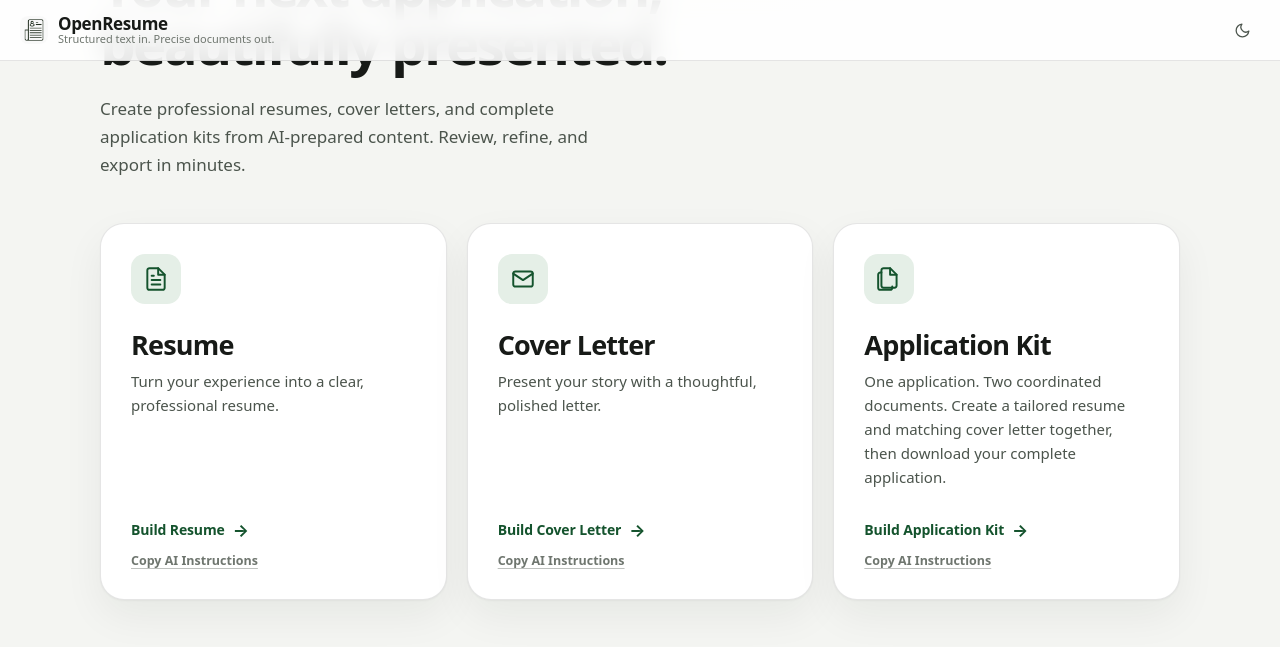
Test: cover letter workflow › builds and edits a cover letter
(page scrolled)
Click the button "Build Cover Letter →" at (572, 530), box top-left (498, 519), bottom-right (645, 540)
(page scrolled)
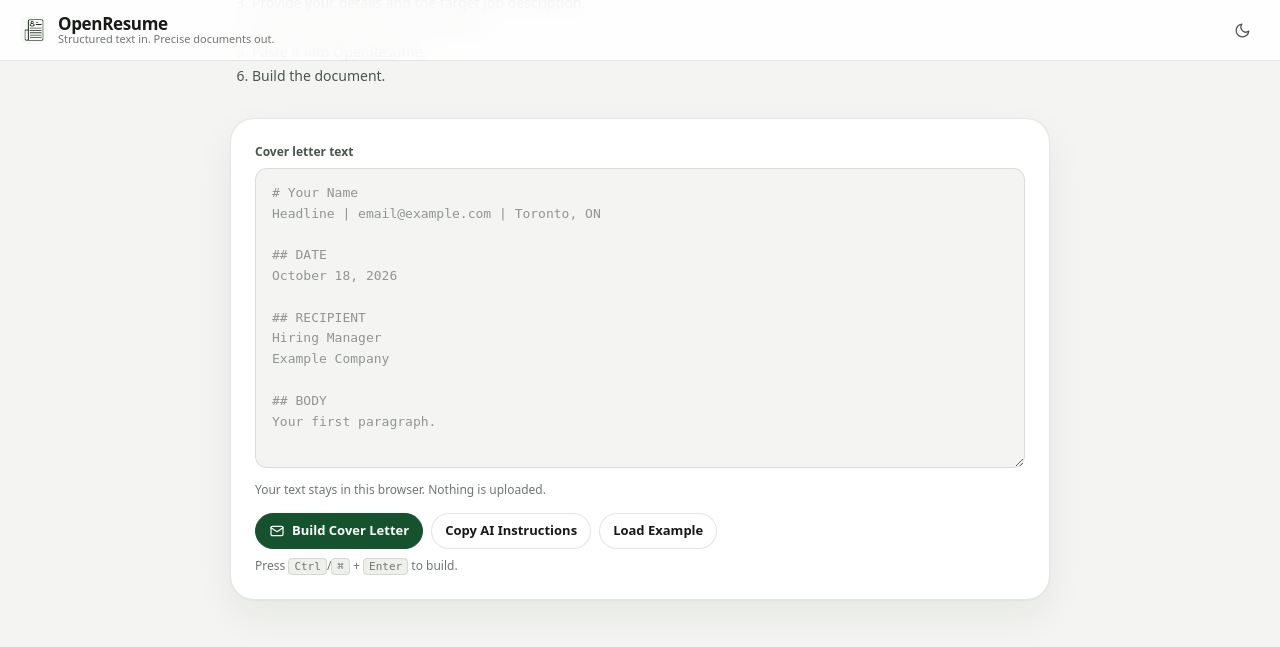
Replace the text in the text box labelled "Cover letter text" with "# Jordan Avery Product-minded software generalist | jordan.avery@example.com | +1 555 0142 | Toronto, ON | linkedin.com/in/jordanavery ## DATE October 18, 2026 ## RECIPIENT Morgan Lee Hiring Manager B" at (640, 318), box top-left (255, 168), bottom-right (1025, 468)
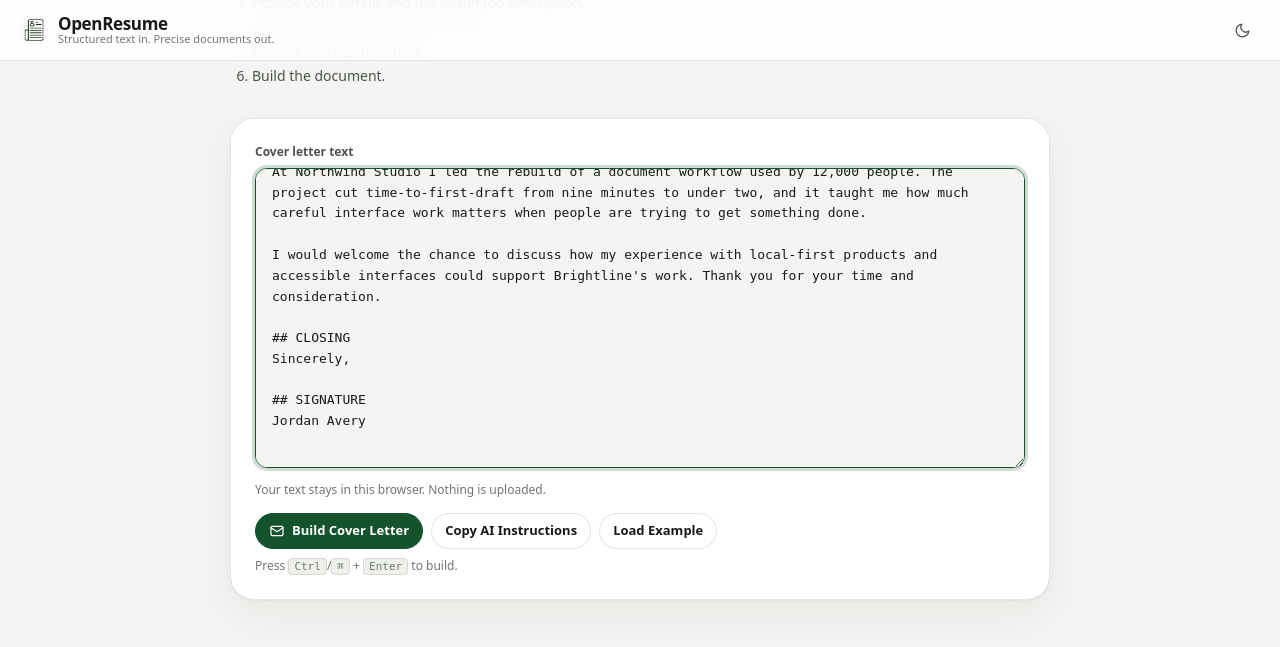
Click the button "Build Cover Letter" at (339, 531), box top-left (255, 513), bottom-right (423, 549)
(page scrolled)
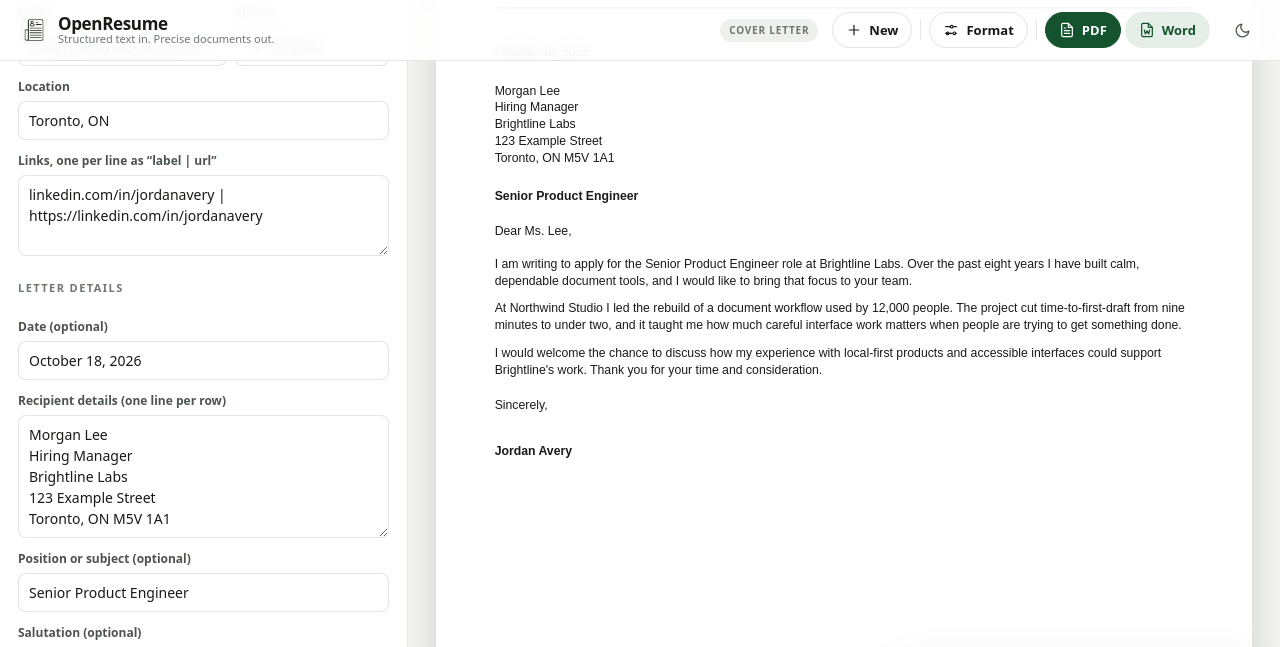
Now the field labelled "Position or subject (optional)" holds "Senior Product Engineer", box top-left (18, 573), bottom-right (389, 612)
Now the text "Brightline Labs" is shown, box top-left (495, 116), bottom-right (576, 133)
Type "November 1, 2026" into the field labelled "Date (optional)" at (204, 360), box top-left (18, 341), bottom-right (389, 380)
(page scrolled)
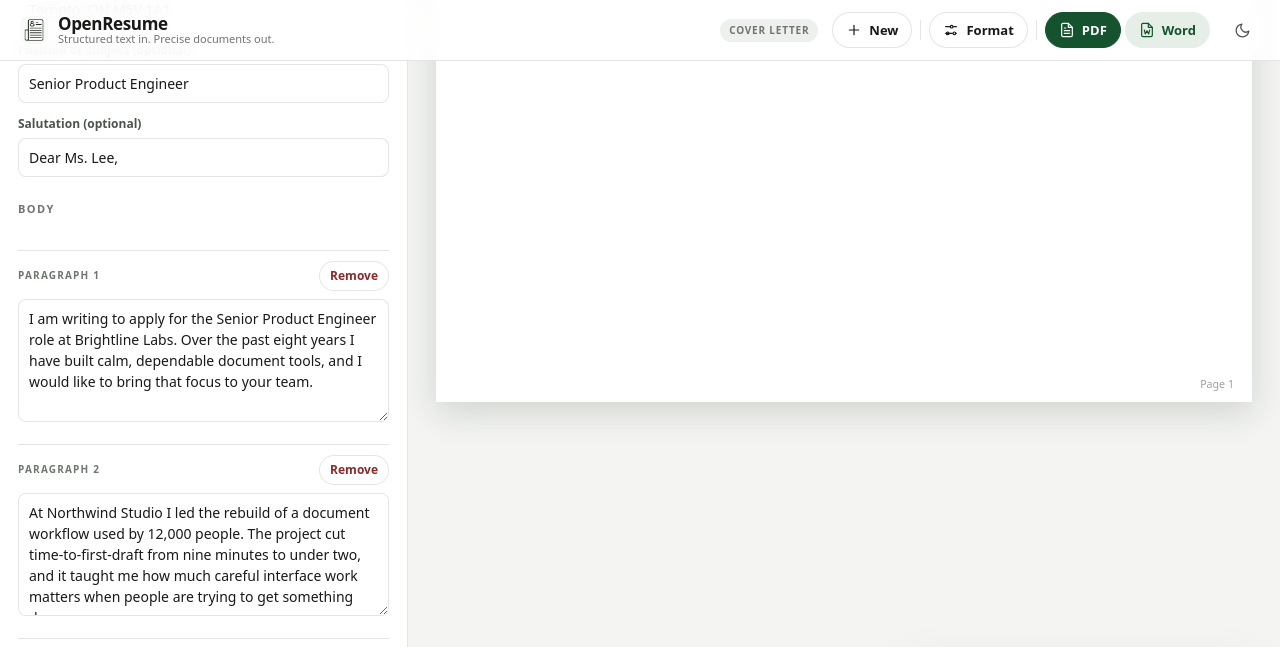
Replace the text in the text box named "Paragraph 1" with "Updated letter body." at (204, 360), box top-left (18, 298), bottom-right (389, 422)
(page scrolled)
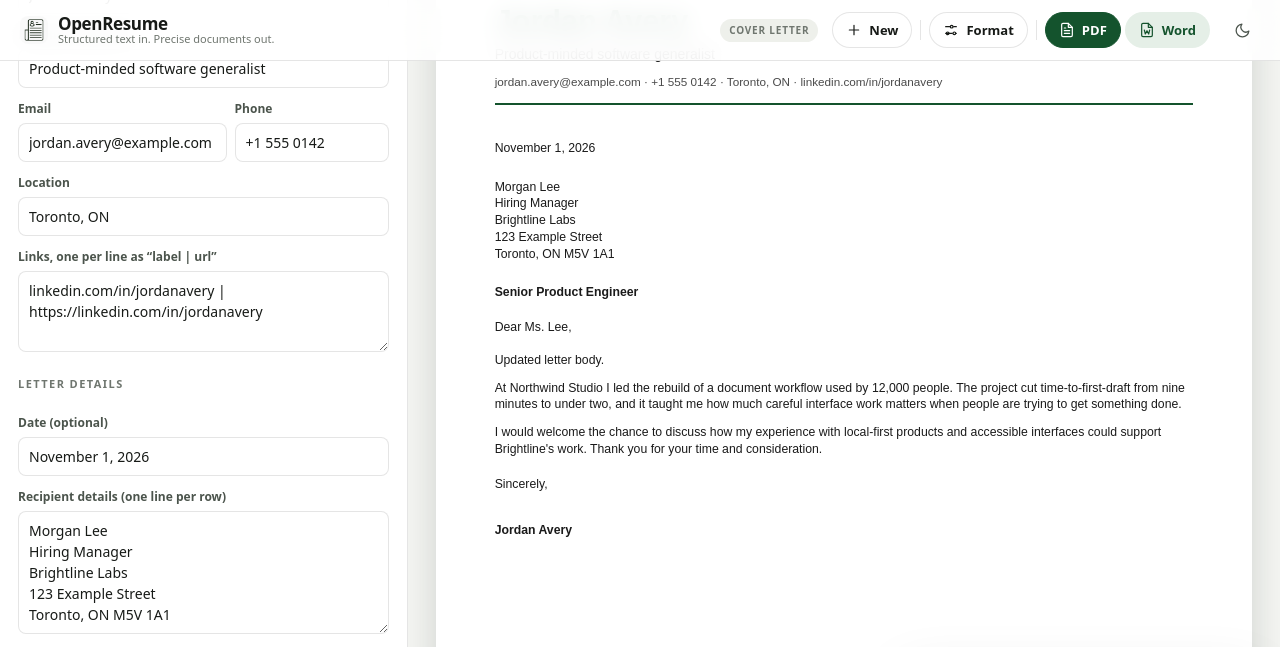
Now the text "Updated letter body." is shown, box top-left (495, 352), bottom-right (604, 369)
